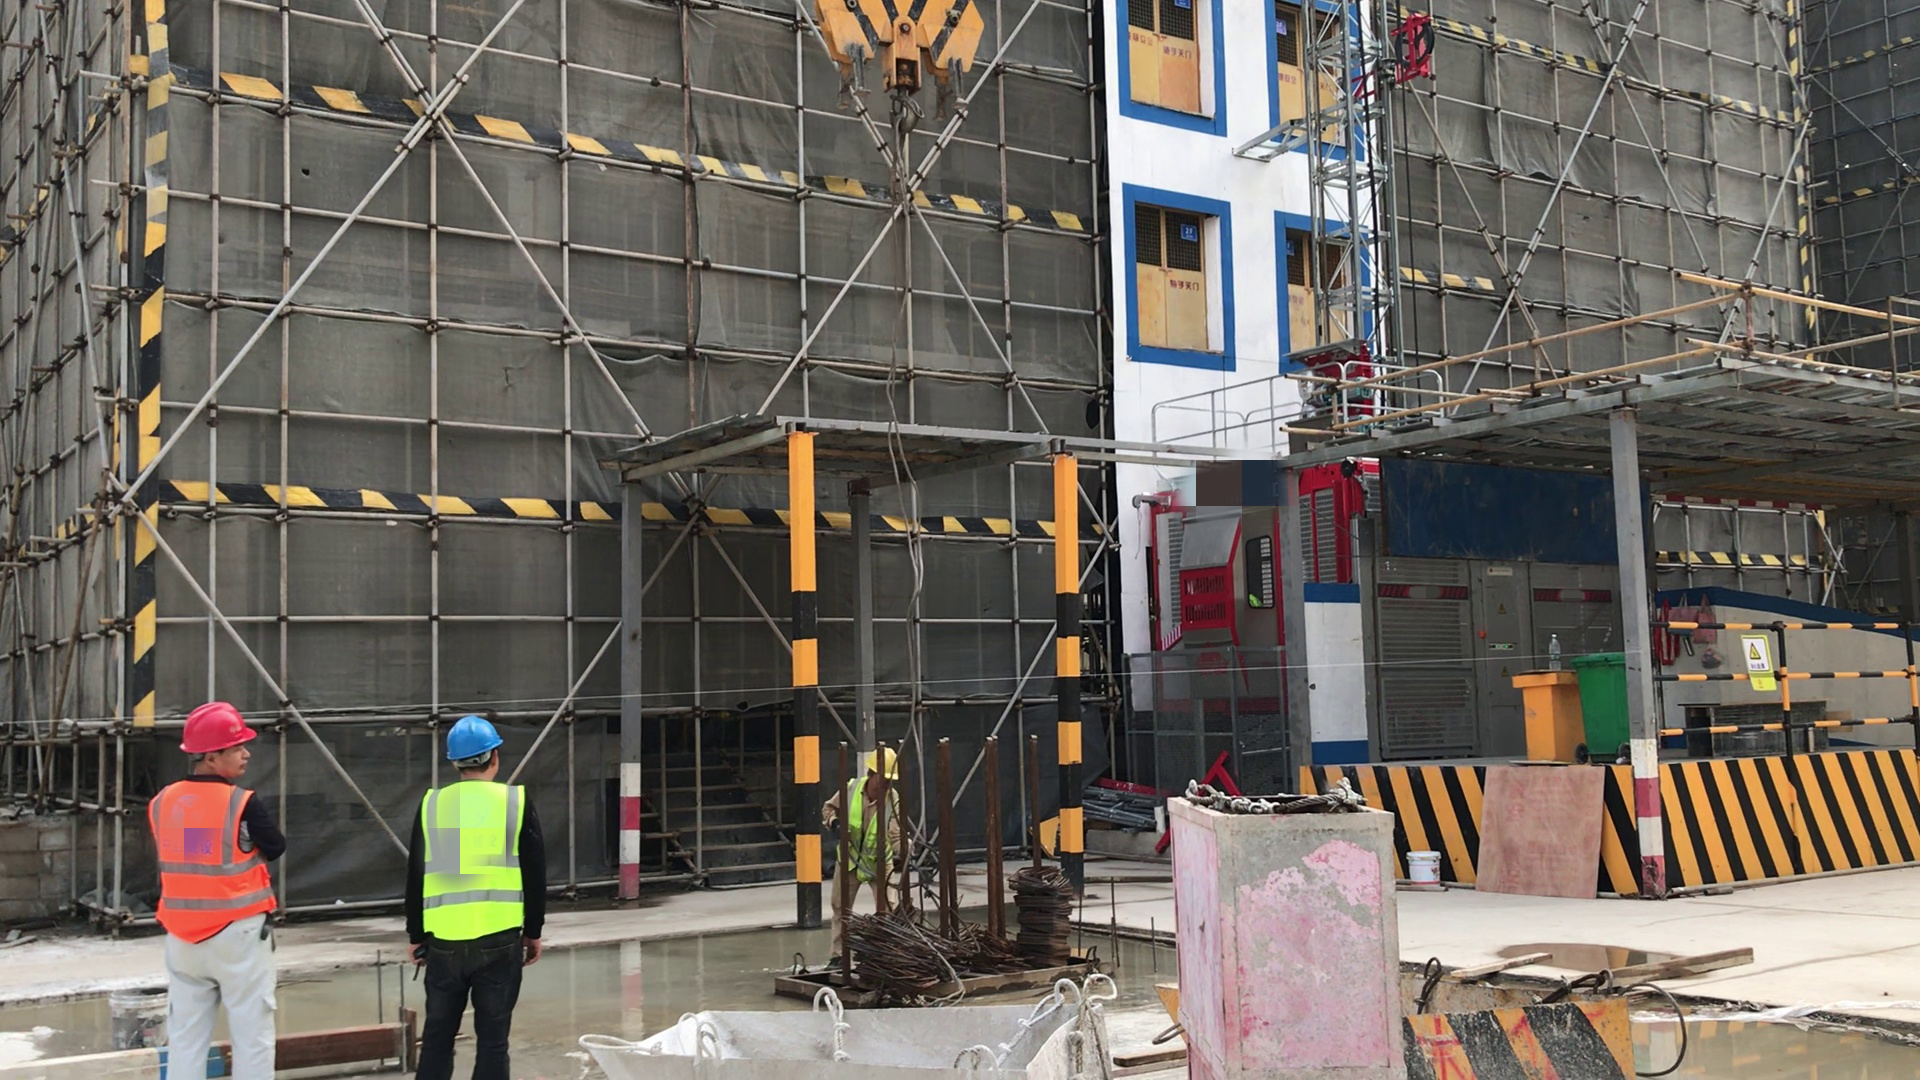ebox: (1519, 669, 1586, 760)
helmet: (179, 702, 256, 753), (444, 716, 502, 763), (865, 746, 900, 783)
hook: (815, 1, 985, 134)
hopper: (583, 1008, 1102, 1080), (1392, 962, 1633, 1080)
person: (150, 701, 276, 1080), (417, 716, 543, 1080), (823, 746, 904, 976)
slogan: (1740, 637, 1769, 692)
vest: (155, 787, 270, 941), (420, 784, 525, 941), (847, 783, 889, 879)
